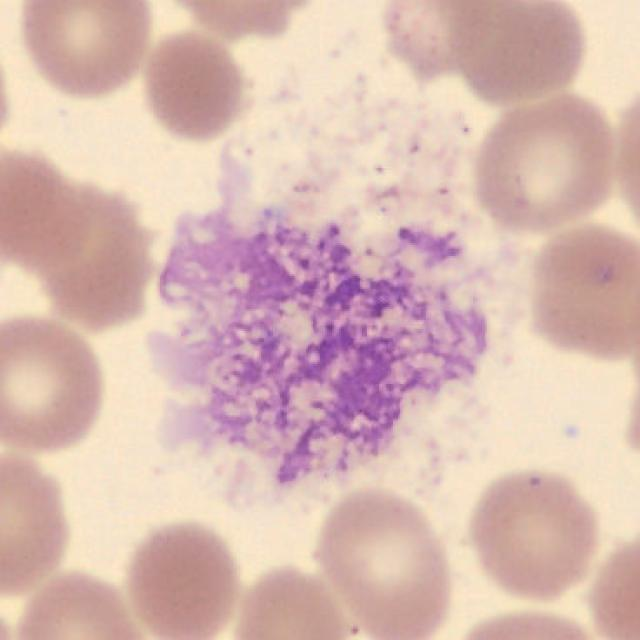Restos celulares: (160, 210, 485, 488)
